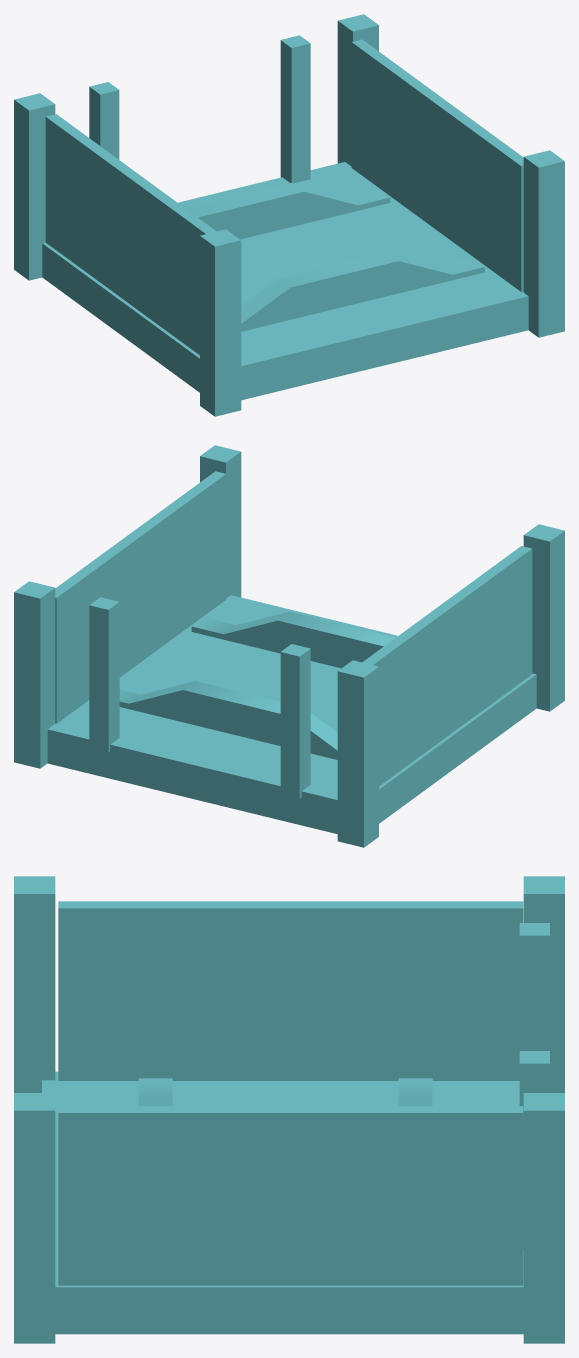
File: Elevator_Shaft_Base_COL.fbx
The picture shows the model from 3 angles, top to bottom: view 1: azimuth 30°, elevation 25°; view 2: azimuth 150°, elevation 25°; view 3: azimuth 270°, elevation 25°; orthographic projection. The views are drawn at different scales.
Visible parts, largest first — view 1: Elevator_Shaft_Base_COL; view 2: Elevator_Shaft_Base_COL; view 3: Elevator_Shaft_Base_COL.
Boxes of the visible parts, left/top/right/bottom form: Elevator_Shaft_Base_COL: left=14, top=14, right=564, bottom=416; Elevator_Shaft_Base_COL: left=14, top=445, right=564, bottom=847; Elevator_Shaft_Base_COL: left=14, top=876, right=564, bottom=1343.
Size of the model in its own units: 366 by 170 by 364.
